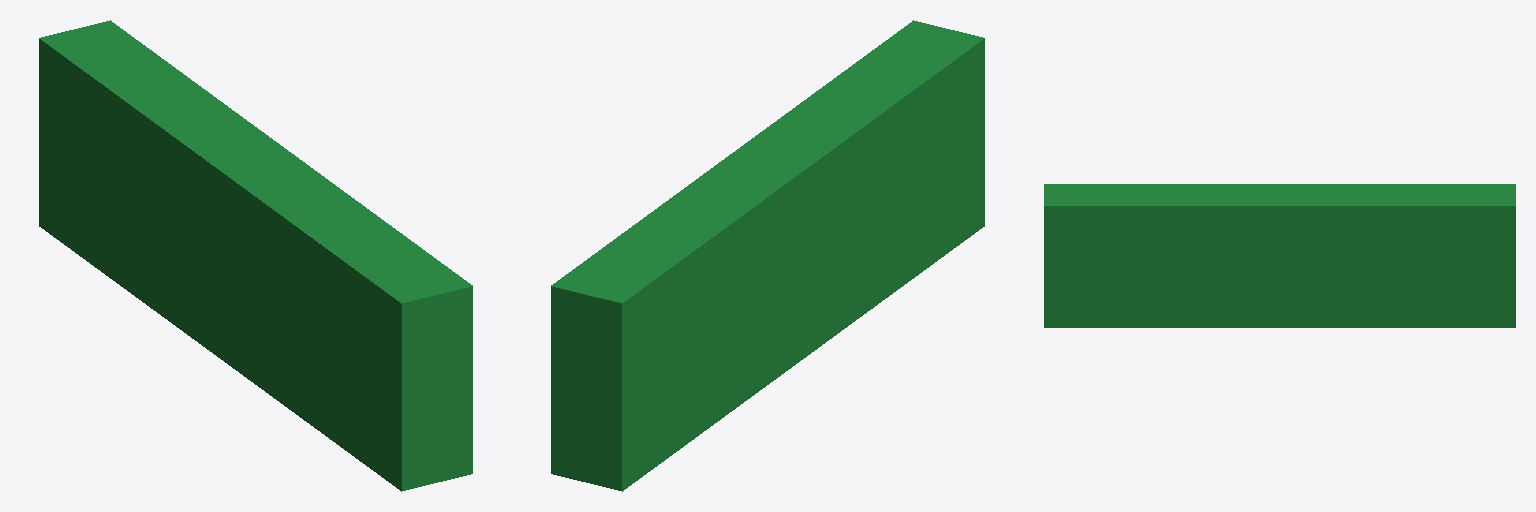
URDF robot description (logStash):
<?xml version="1.0"?>
<robot name="logStash">

  <link name="log1">
    <inertial>
      <origin rpy="0 0 -1.6" xyz="0 3.51 0" />
      <mass value="0.01" />
      <inertia  ixx="1.0" ixy="0.0"  ixz="0.0"  iyy="100.0"  iyz="0.0"  izz="1.0" />
    </inertial>
    <visual>
      <origin rpy="0 0 0" xyz="0 3.51 0"/>
      <geometry>
        <box size="0.08 0.7 0.2"/>
      </geometry>
      <material name="brown">
       <color rgba="0.2 0.6 0.3 1"/>
     </material>
    </visual>
    <collision>
      <origin rpy="0 0 -1.6" xyz="0 3.51 0"/>
      <geometry>
        <box size="0.08 0.7 0.2"/>
      </geometry>
    </collision>
  </link>
<!--
  <joint name="log1_to_log2" type="fixed">
    <origin xyz="0 0 0" rpy="0 0 0"/>
    <parent link="log1"/>
    <child link="log2"/>
  </joint>

  <link name="log2">
    <inertial>
      <origin xyz="0 3.52 0" rpy="0 0 -1.6" />
      <mass value="0.01" />
      <inertia  ixx="1.0" ixy="0.0"  ixz="0.0"  iyy="100.0"  iyz="0.0"  izz="1.0" />
    </inertial>
    <visual>
      <origin rpy="0 0 -1.6" xyz="0 3.52 0"/>
      <geometry>
        <box size="0.08 0.7 0.2"/>
      </geometry>
      <material name="brown">
       <color rgba="0.2 0.6 0.3 1"/>
     </material>
    </visual>
    <collision>
      <origin rpy="0 0 -1.6" xyz="0 3.52 0"/>
      <geometry>
        <box size="0.08 0.7 0.2"/>
      </geometry>
    </collision>
  </link> -->

</robot>

--- What the picture shows (computed from the rendered views, not written in the file) ---
Views: 3 orthographic renders of the robot side by side, from view 1: azimuth 30°, elevation 25°; view 2: azimuth 150°, elevation 25°; view 3: azimuth 270°, elevation 25°.
Model logStash with 1 links and 0 joints (none), rooted at log1, posed every joint at zero.
Links seen in each view (by area): view 1: log1; view 2: log1; view 3: log1.
Boxes of the visible links, x1=… form: log1: x1=39, y1=20, x2=472, y2=491; log1: x1=551, y1=20, x2=984, y2=491; log1: x1=1044, y1=184, x2=1515, y2=327.
Bounding box of the posed robot: 0.08 × 0.7 × 0.2 m (x, y, z).
Geometry: primitives only (box / cylinder / sphere), no mesh files.